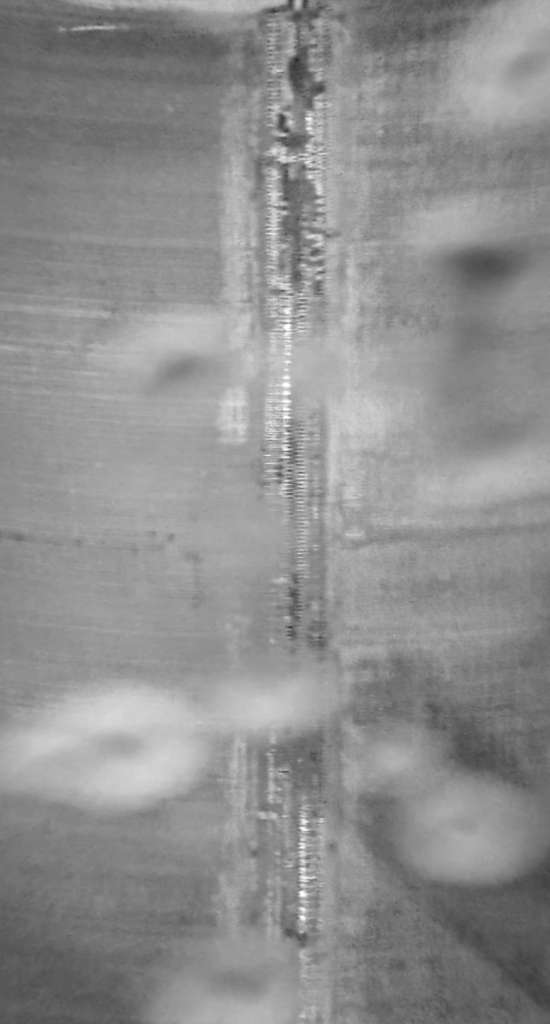splice: (248, 1, 353, 1024)
